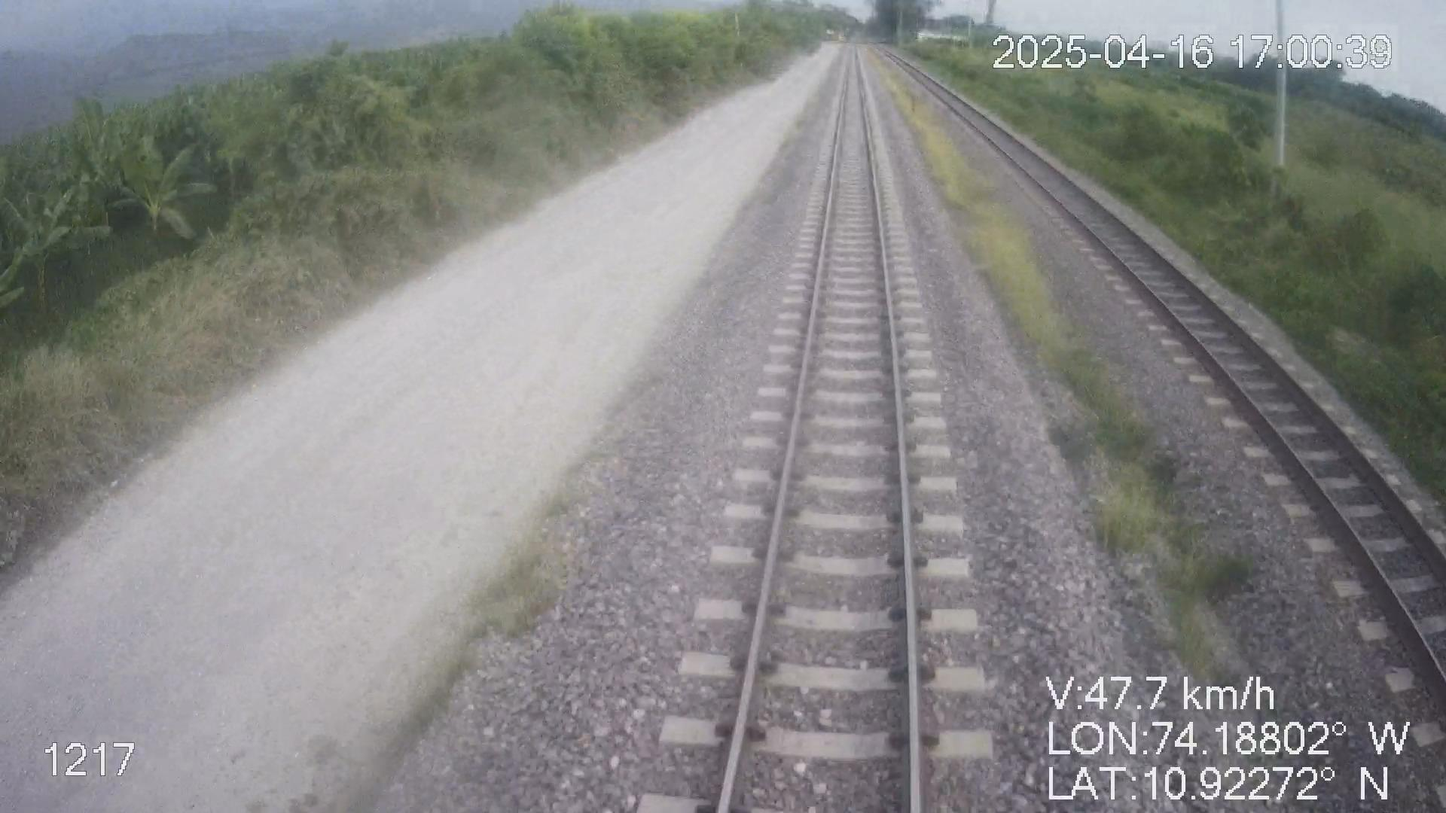Pasto: (0, 11, 837, 575), (909, 23, 1445, 519)
